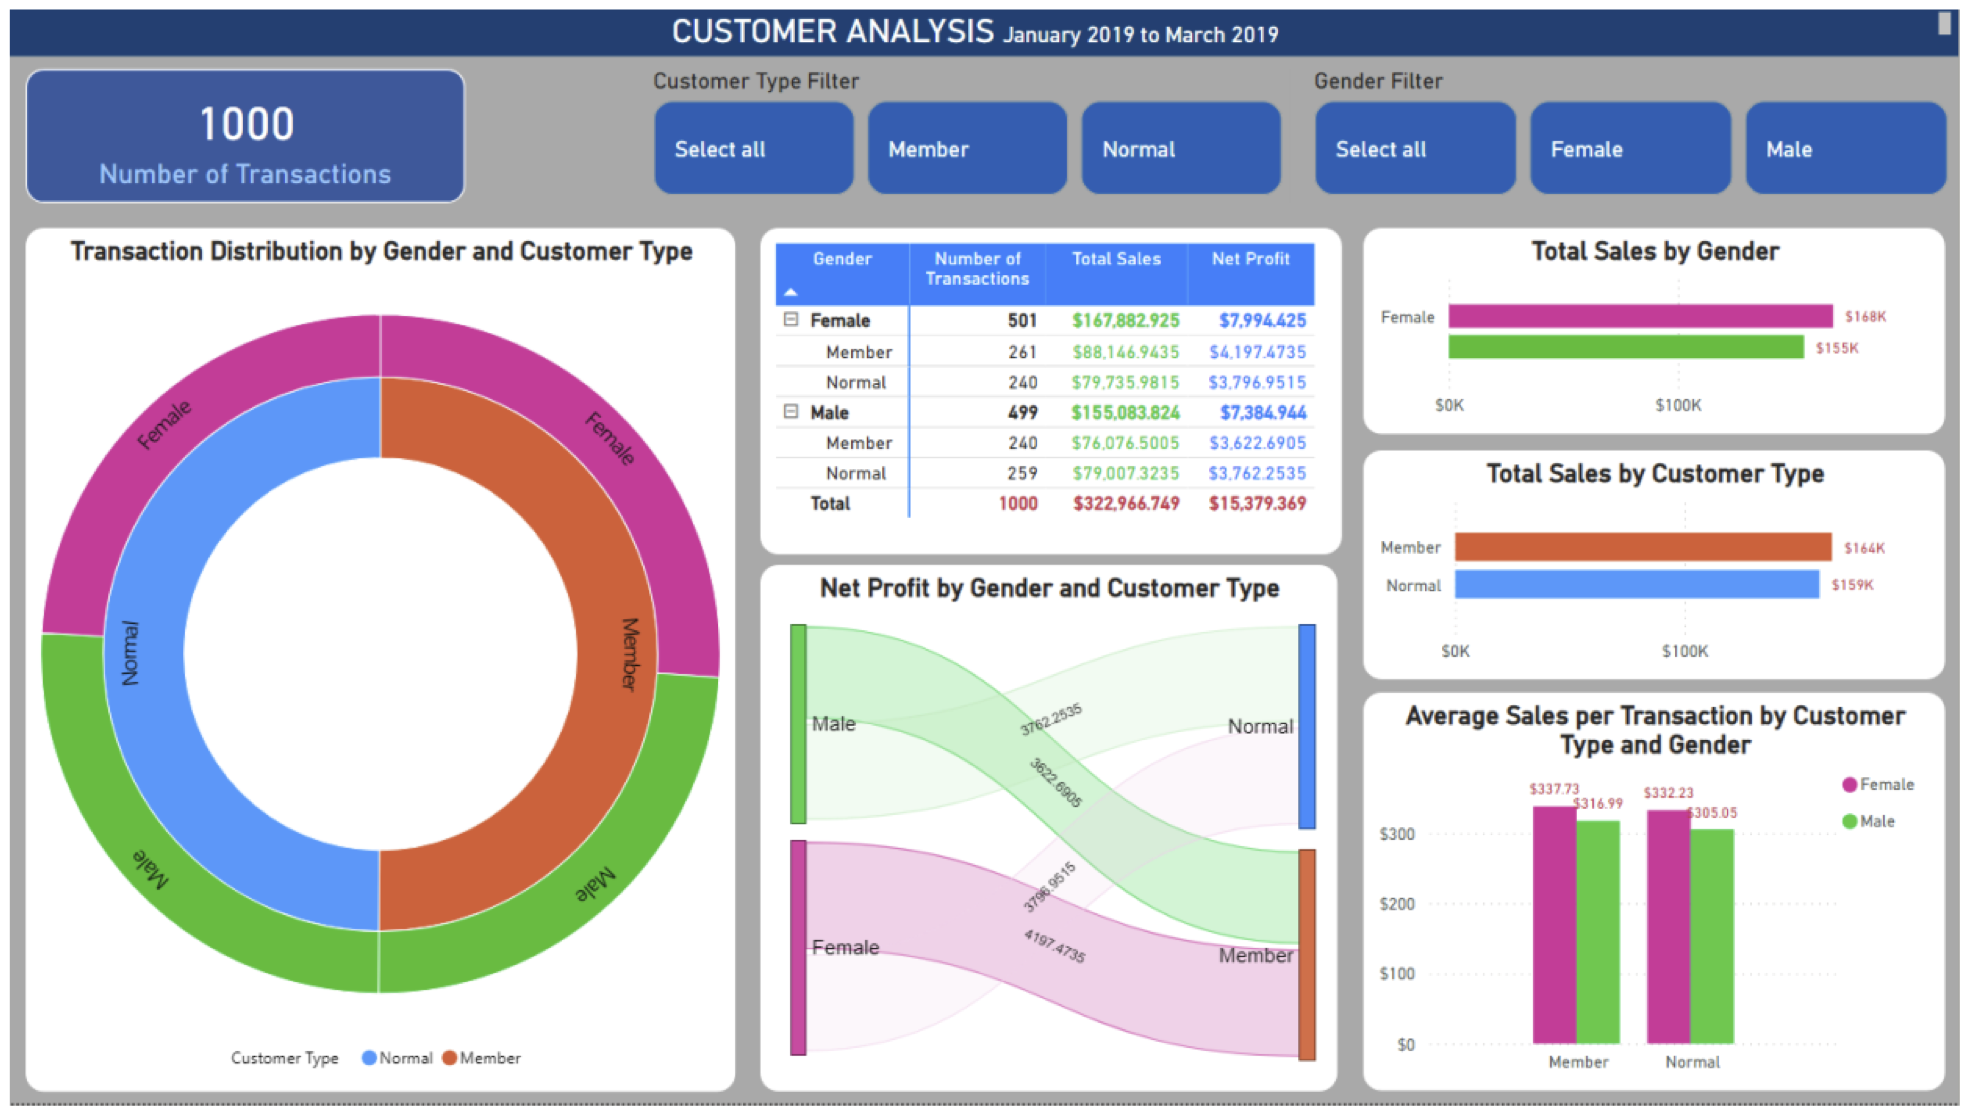

This screenshot's page, from the dashboard's own definition file:
{"tool":"powerbi","page":{"name":"Customer  Analysis","canvas":[1280,720],"ordinal":3},"visuals":[{"type":"textbox","box":[0,0,1280,34.3],"z":0},{"type":"barChart","fields":{"Category":["CustomerType.Customer Type"],"Y":["Sales.Total Sales"]},"box":[890,292.5,381.2,150],"z":1000},{"type":"barChart","fields":{"Category":["Sales.Gender"],"Y":["Sales.Total Sales"]},"box":[890,130,381.2,151.2],"z":2000},{"type":"Sunburst1445472000808","title":"Transaction Distribution by Gender and Customer Type","fields":{"Nodes":["Sales.Customer Type","Sales.Gender"],"Values":["CountNonNull(Sales.Invoice ID)"]},"box":[13.8,146.2,465,566.2],"z":3000},{"type":"advancedSlicerVisual","title":"Gender Filter","fields":{"Values":["Sales.Gender"]},"box":[853,42,427,88],"z":4000},{"type":"advancedSlicerVisual","title":"Customer Type Filter","fields":{"Values":["CustomerType.Customer Type"]},"box":[420,42,422,88],"z":5000},{"type":"pivotTable","title":"Total Sales and Net Profit by Customer Type and Gender","fields":{"Values":["Sales.Number of Transactions","Sales.Total Sales","Sales.Net Profit"],"Rows":["Sales.Gender","CustomerType.Customer Type"]},"box":[495,146.2,381.2,213.8],"z":6000},{"type":"card","fields":{"Values":["Sales.Number of Transactions"]},"box":[14,42,288,88],"z":7000},{"type":"sankey02300D1BE6F5427989F3DE31CCA9E0F32020","fields":{"Source":["Sales.Gender"],"Destination":["CustomerType.Customer Type"],"Weight":["Sales.Net Profit"],"SourceLabels":["Sales.Total Sales"]},"box":[495,367.5,377.5,352.5],"z":8000},{"type":"clusteredColumnChart","fields":{"Category":["CustomerType.Customer Type"],"Series":["Sales.Gender"],"Y":["Sales.Average Sales per Transaction"]},"box":[890,451.1,381.1,261.1],"z":9000}]}

Visuals, with their boxes in screenshot pixels (x1, y1, x2, y2), scaled from the page's 1280x720 canvas onto the 1969x1115 screenshot:
textbox: (0,0,1968,53)
barChart - CustomerType.Customer Type x Sales.Total Sales: (1369,453,1955,685)
barChart - Sales.Gender x Sales.Total Sales: (1369,201,1955,435)
"Transaction Distribution by Gender and Customer Type" Sunburst1445472000808: (21,226,737,1103)
"Gender Filter" advancedSlicerVisual: (1312,65,1968,201)
"Customer Type Filter" advancedSlicerVisual: (646,65,1295,201)
"Total Sales and Net Profit by Customer Type and Gender" pivotTable: (761,226,1348,558)
card - Sales.Number of Transactions: (22,65,465,201)
sankey02300D1BE6F5427989F3DE31CCA9E0F32020 - Sales.Gender x CustomerType.Customer Type: (761,569,1342,1114)
clusteredColumnChart - CustomerType.Customer Type x Sales.Gender: (1369,699,1955,1103)
